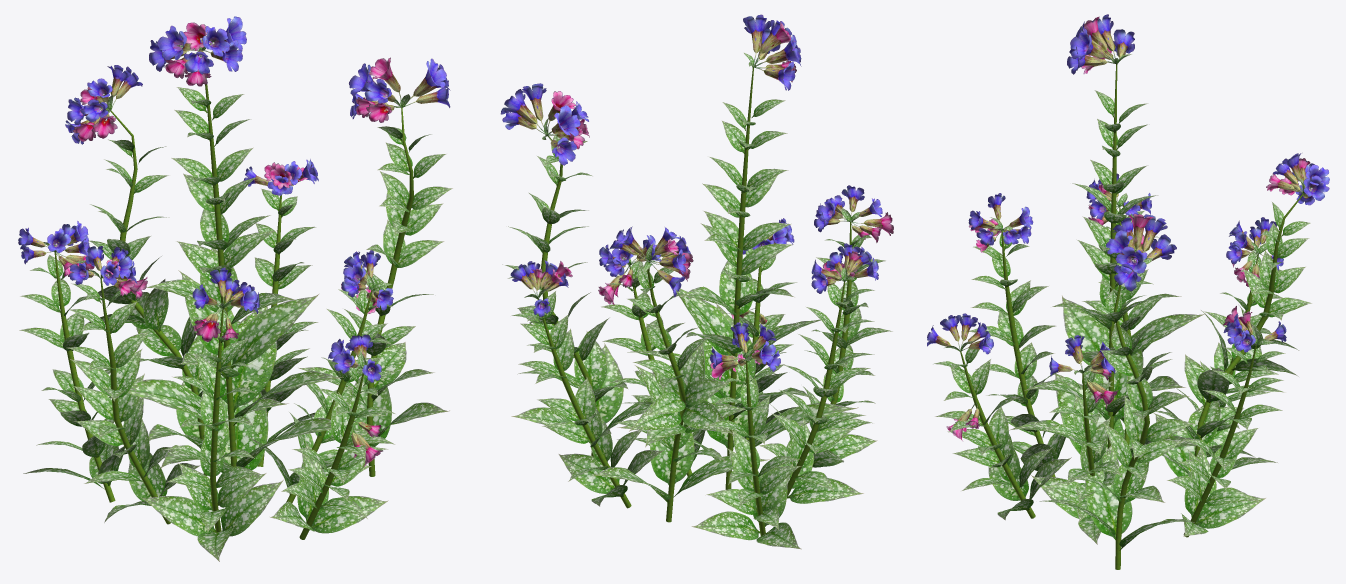
Rendered from Lungwort_spring.glb.
3 views of the same model, side by side, from view 1: azimuth 30°, elevation 25°; view 2: azimuth 150°, elevation 25°; view 3: azimuth 270°, elevation 25° (orthographic). The views are drawn at different scales.
Visible parts, largest first — view 1: Leaf_2_spring, Flower_Blue_spring, Bark_spring, Flower_Pink_spring; view 2: Leaf_2_spring, Flower_Blue_spring, Bark_spring, Flower_Pink_spring; view 3: Leaf_2_spring, Flower_Blue_spring, Bark_spring, Flower_Pink_spring.
Part boxes in pixels (box(x1,y1,x2,y2)): Leaf_2_spring: box(19, 47, 452, 561); Flower_Blue_spring: box(18, 16, 450, 382); Bark_spring: box(54, 77, 413, 539); Flower_Pink_spring: box(55, 22, 401, 466); Leaf_2_spring: box(502, 52, 892, 549); Flower_Blue_spring: box(500, 14, 882, 371); Bark_spring: box(537, 67, 851, 535); Flower_Pink_spring: box(531, 22, 893, 379); Leaf_2_spring: box(933, 54, 1312, 550); Flower_Blue_spring: box(927, 14, 1329, 376); Bark_spring: box(960, 64, 1303, 569); Flower_Pink_spring: box(946, 16, 1310, 440).
Bounding box in the file's own units: 0.6882 × 0.8568 × 0.671.
Materials: 4 (4 with a texture image).
